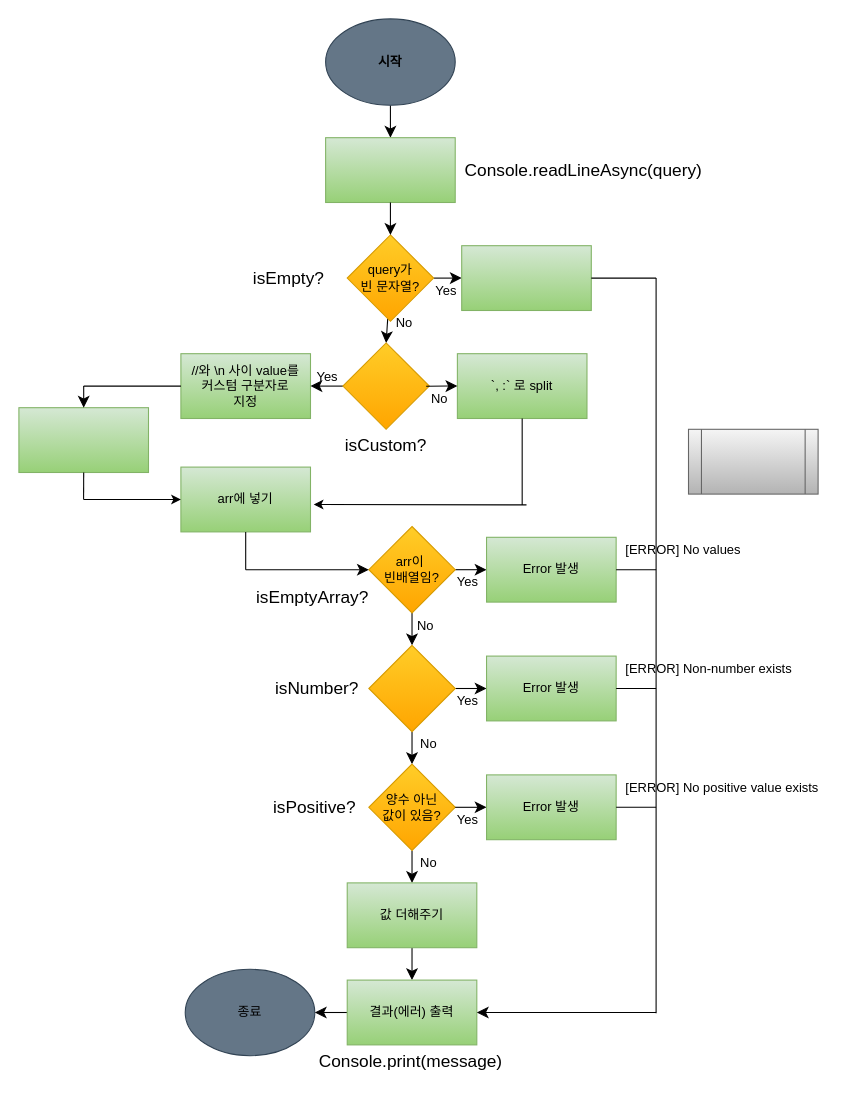
Image size: 848x1096. Some labels were removed from this diagram. Here are the shapes that lost their labels. From the top down, the centre of each, then its label:
point 390,169: 사용자에게 입력 받기
point 526,277: sum = 0
point 385,385: query가 //로 시작?
point 83,440: \n 이후 문자열을 커스텀 구분자로 split
point 752,461: Console 내 error문 => [Error]로 받기
point 411,688: 숫자 아닌 값이 있음?
